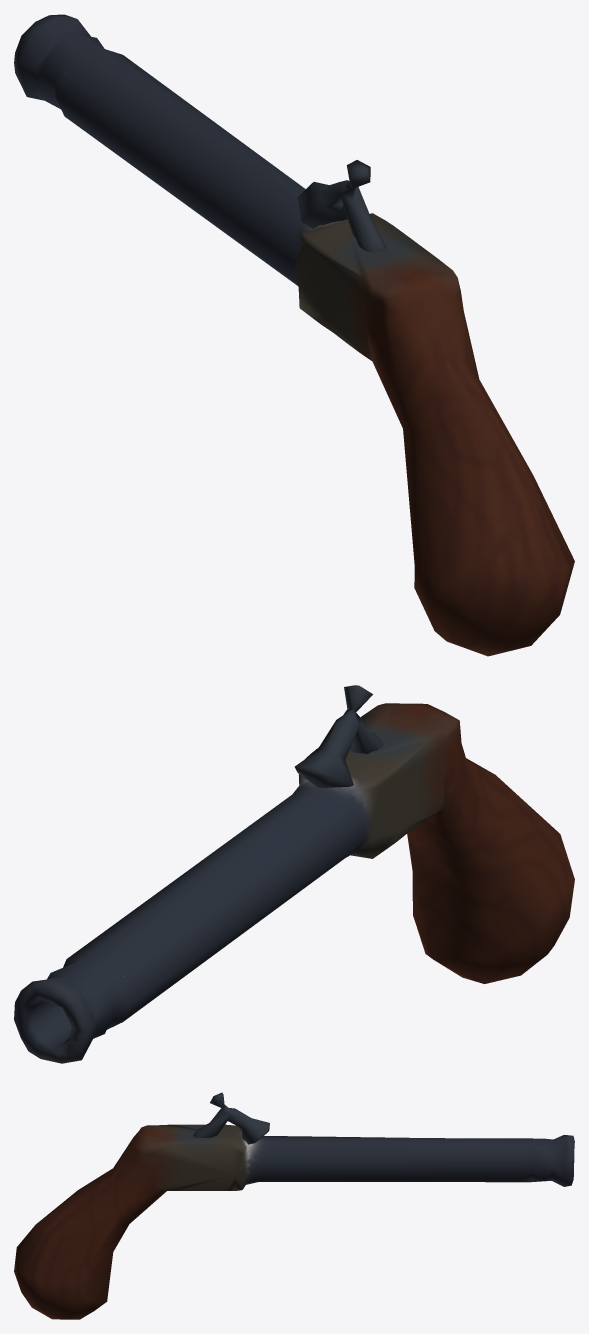
Rendered from pistola.fbx.
3 renders of one model, top to bottom at view 1: azimuth 30°, elevation 25°; view 2: azimuth 150°, elevation 25°; view 3: azimuth 270°, elevation 25°, orthographic. The views are drawn at different scales.
Parts seen in each view (by area): view 1: cuerpo; view 2: cuerpo; view 3: cuerpo.
Boxes of the visible parts, <box> form: cuerpo: <box>14,14,574,656</box>; cuerpo: <box>14,685,574,1063</box>; cuerpo: <box>14,1092,574,1319</box>.
Size of the model in its own units: 26.29 by 164 by 71.5.
Materials: 2 (2 with a texture image).
